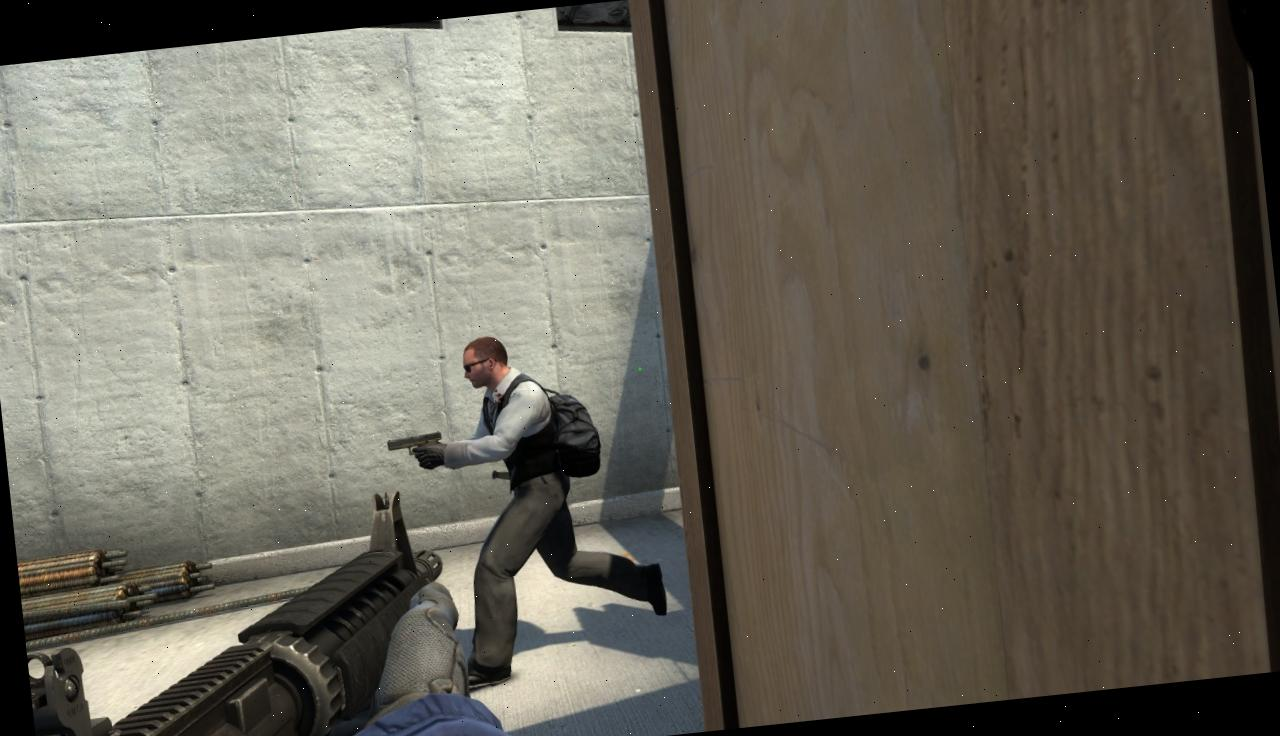rifle: (14, 493, 459, 736)
tt: (434, 330, 596, 694)
tthead: (459, 336, 511, 390)
